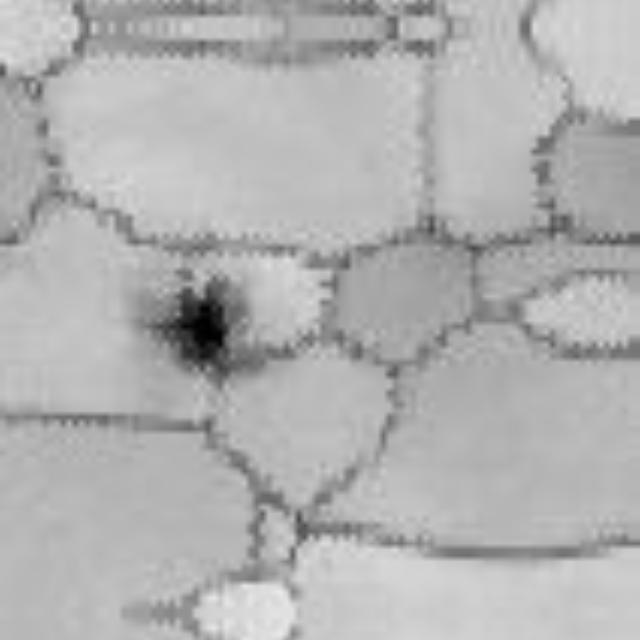good_void: (118, 242, 283, 408)
